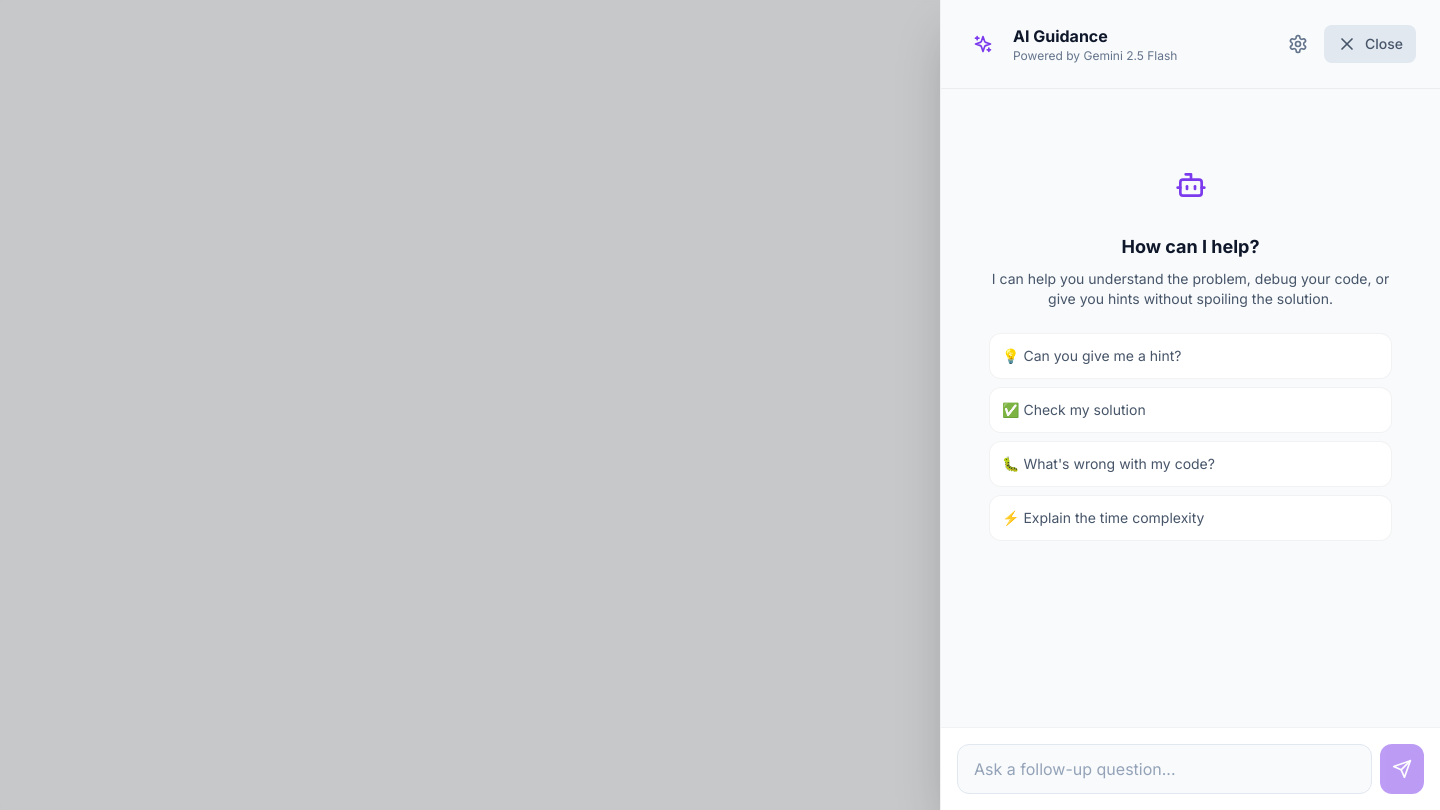
AIGuidance Component › sends a message and displays response
In the field with placeholder "Ask a follow-up question...": (1164, 769) [957, 744, 1372, 794], type "Hello AI"
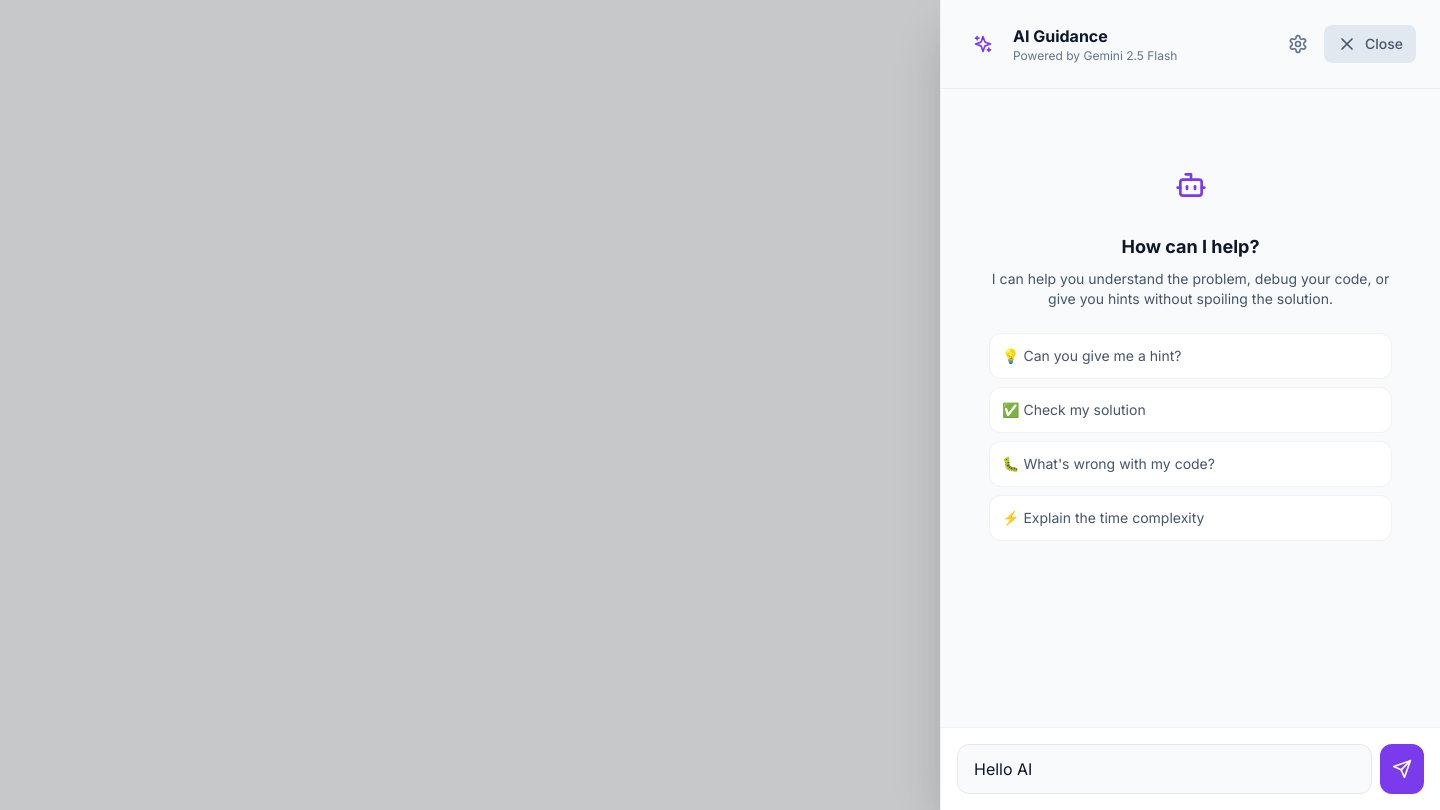
Press Enter in the field with placeholder "Ask a follow-up question...", box [957, 744, 1372, 794]
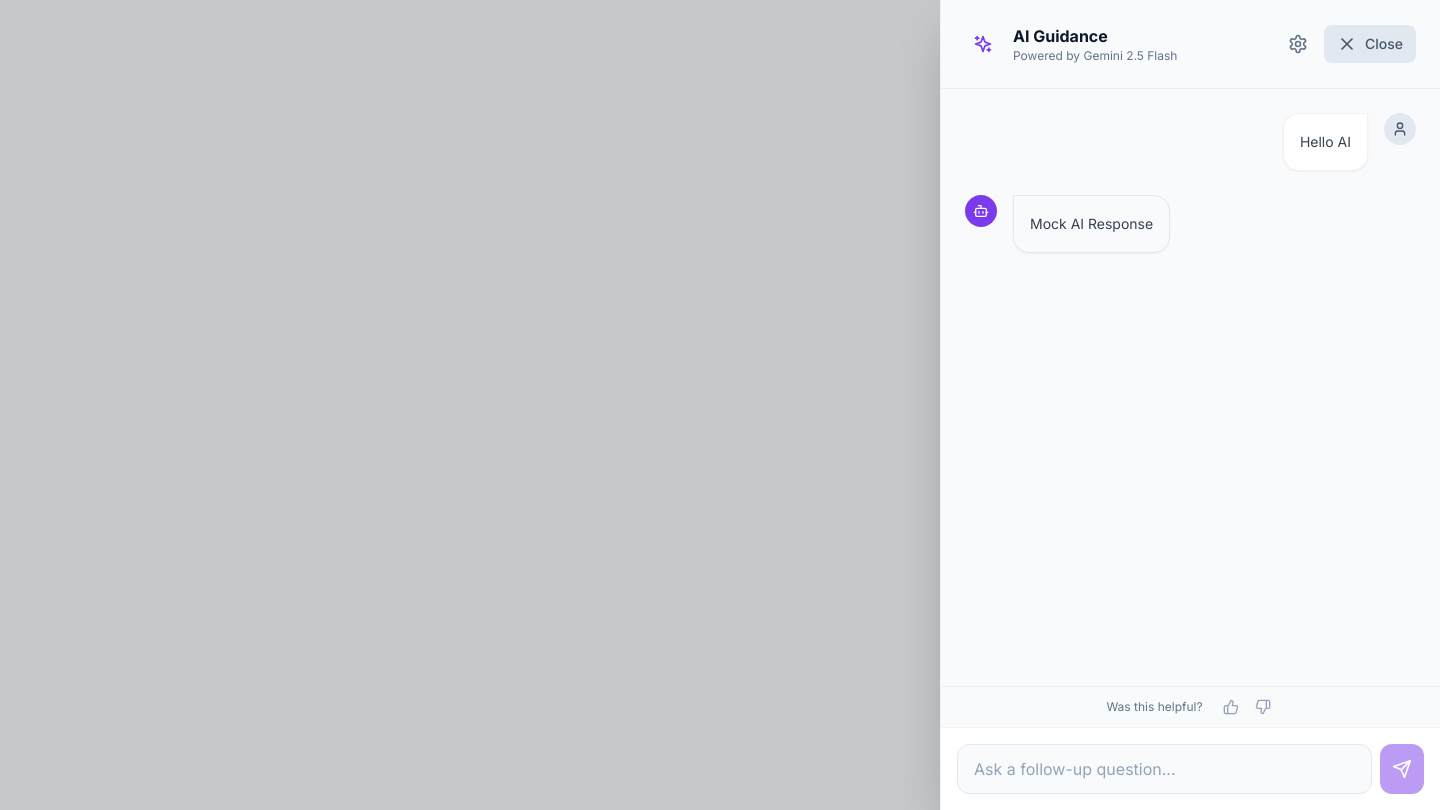
Now the text "Mock AI Response" is shown, box [1030, 212, 1153, 236]
